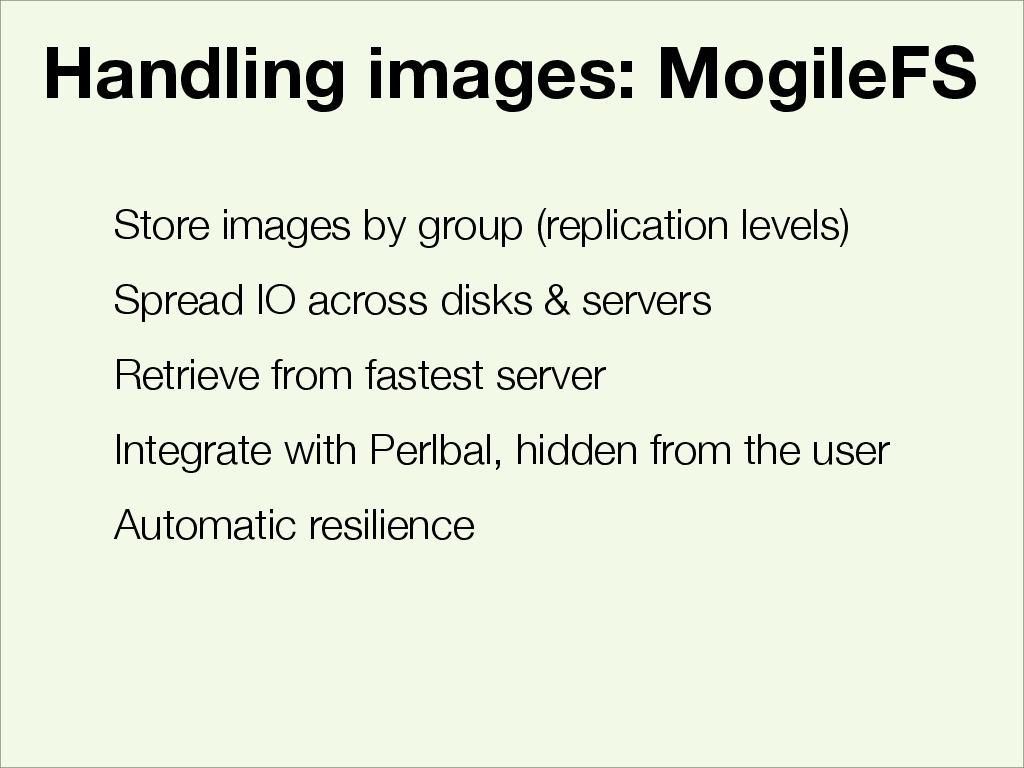paragraph: (88, 177, 924, 573)
title: (32, 19, 983, 121)
